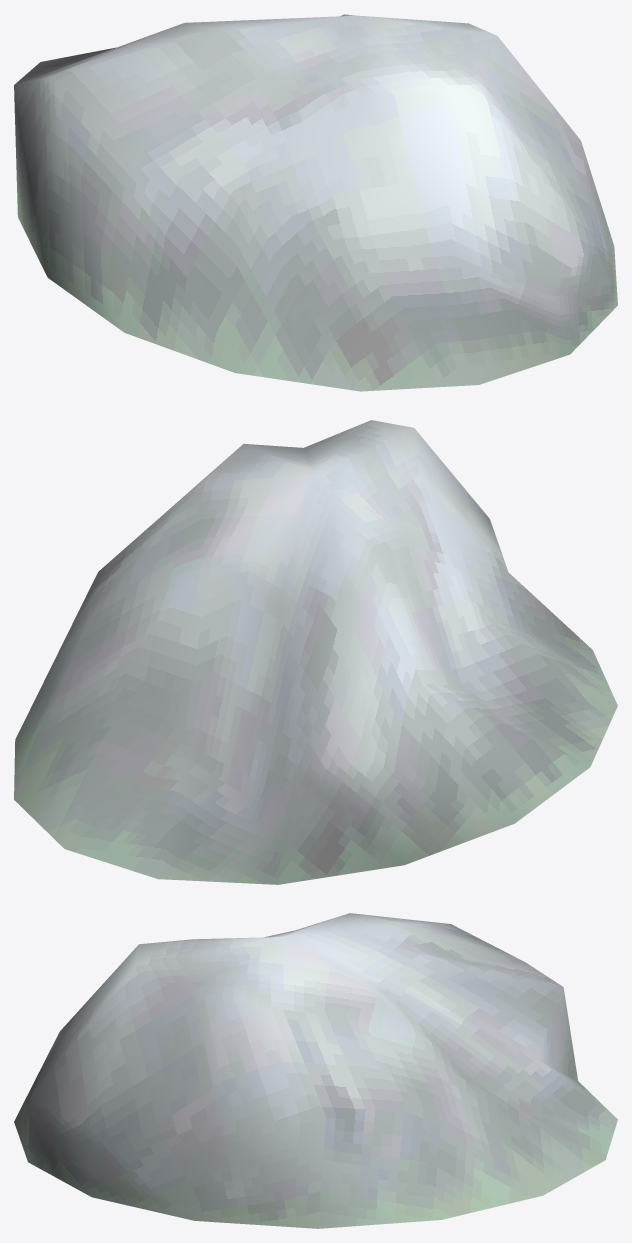
Rendered from TROLLHOLE02_STONEA19.fbx.
3 renders of one model, top to bottom at view 1: azimuth 30°, elevation 25°; view 2: azimuth 150°, elevation 25°; view 3: azimuth 270°, elevation 25°, orthographic. The views are drawn at different scales.
Visible parts, largest first — view 1: TROLLHOLE02_STONEA19; view 2: TROLLHOLE02_STONEA19; view 3: TROLLHOLE02_STONEA19.
Part boxes in pixels (x1,y1,x2,y2): TROLLHOLE02_STONEA19: (14,14,617,391); TROLLHOLE02_STONEA19: (14,420,617,884); TROLLHOLE02_STONEA19: (14,913,617,1228).
Size of the model in its own units: 13397 by 6480 by 17626.
Materials: 1 (1 with a texture image).
